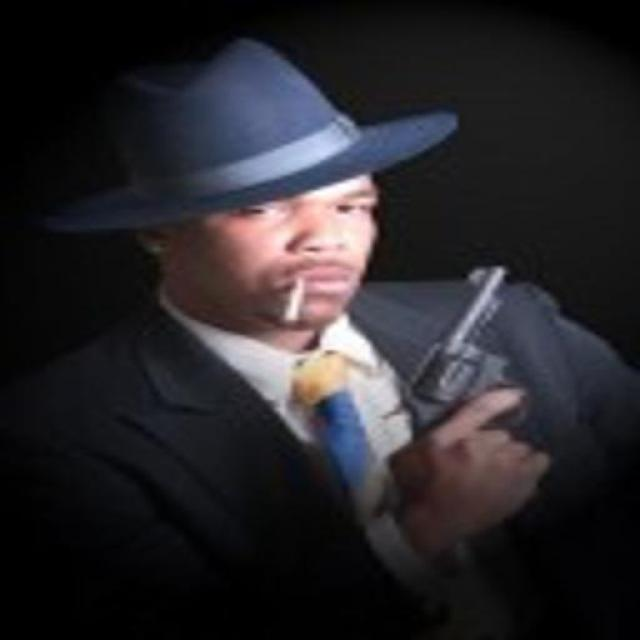pistol: (387, 263, 536, 568)
